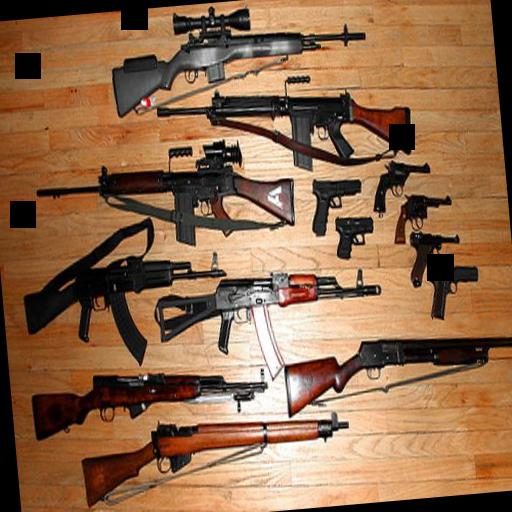Handgun: (366, 154, 434, 214), (306, 174, 366, 237), (388, 190, 455, 243), (422, 258, 482, 316), (403, 225, 456, 286), (330, 212, 376, 258)
